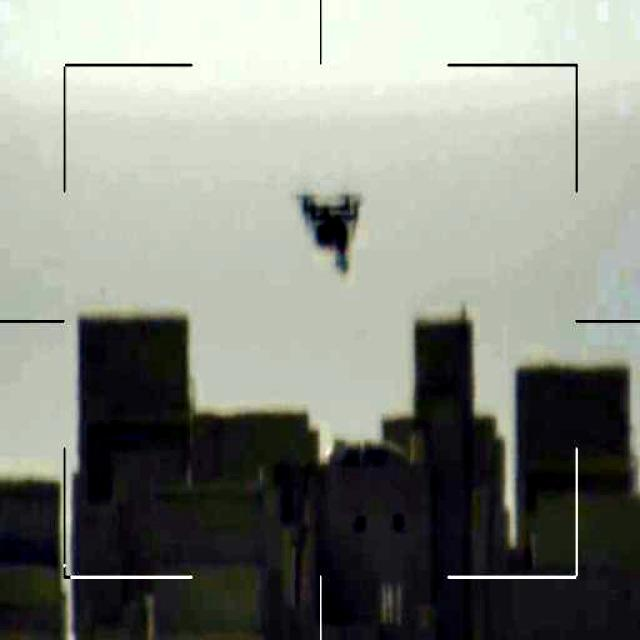bird: (290, 184, 369, 276)
